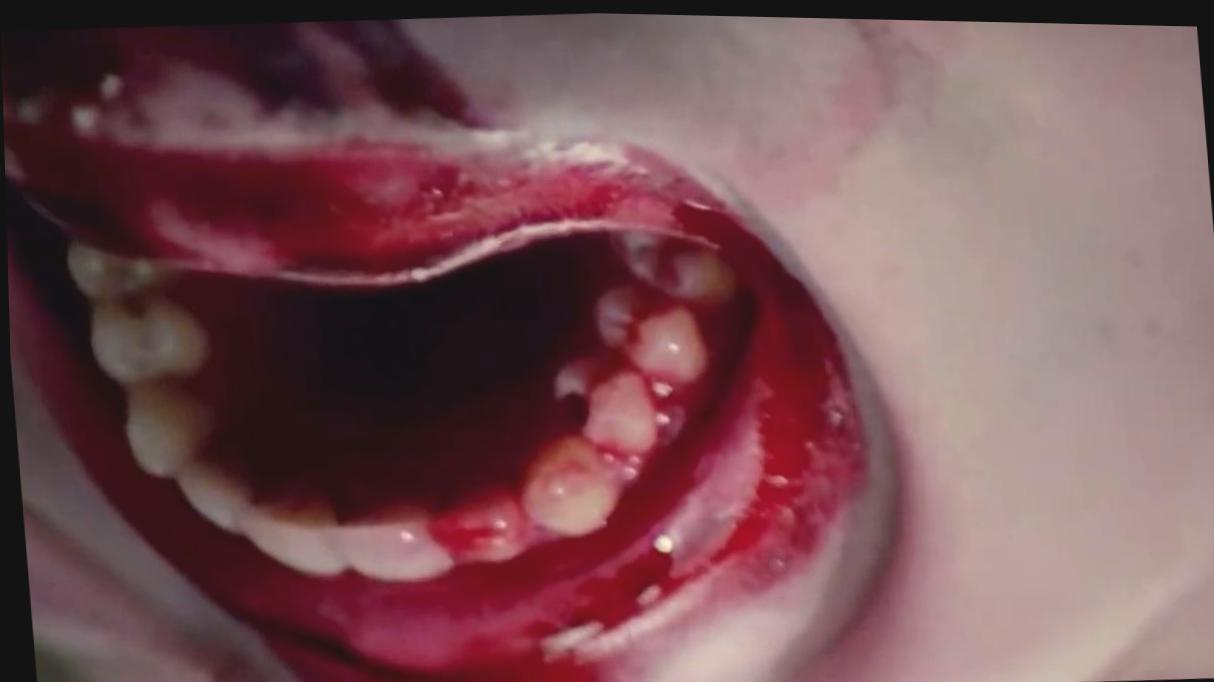Fire: (1, 18, 865, 682)
